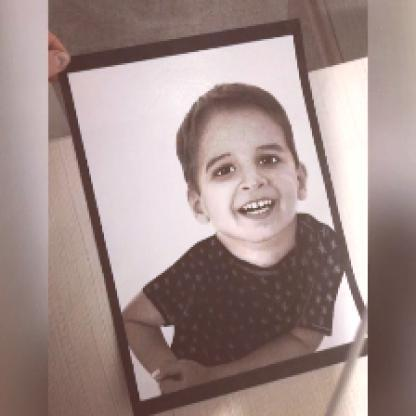child: (124, 82, 347, 398)
